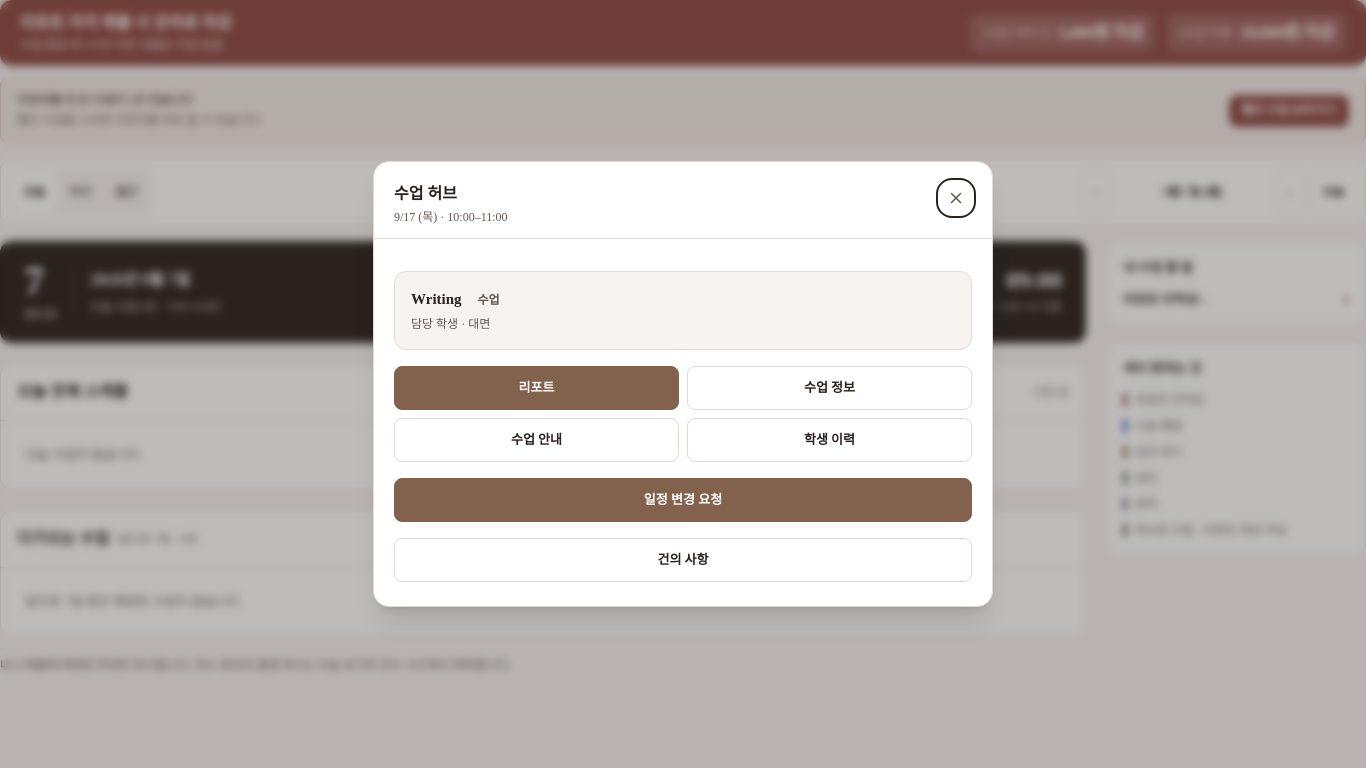
Test case: BOC-06D 강사 일정 변경·근접 건의 Front 계약 › 요청 초안은 허브로 돌아갔다가 다시 열어도 보존하고 source 회차의 날짜·시각은 바꾸지 않는다
Click the button with aria-label "일정 변경 요청 열기": (683, 500) [394,478,972,522]
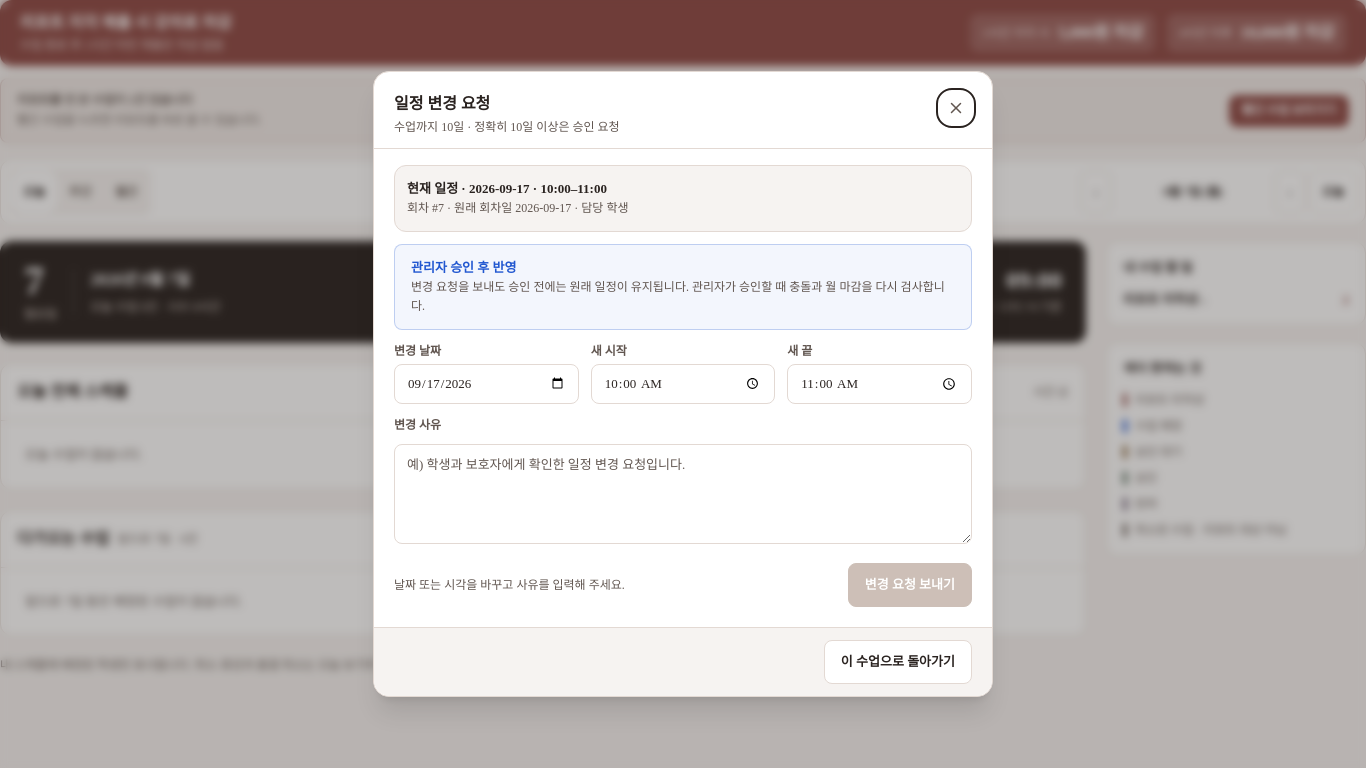
In the date field labelled "변경 날짜": (486, 384) [394,364,579,404], type "2026-09-19"
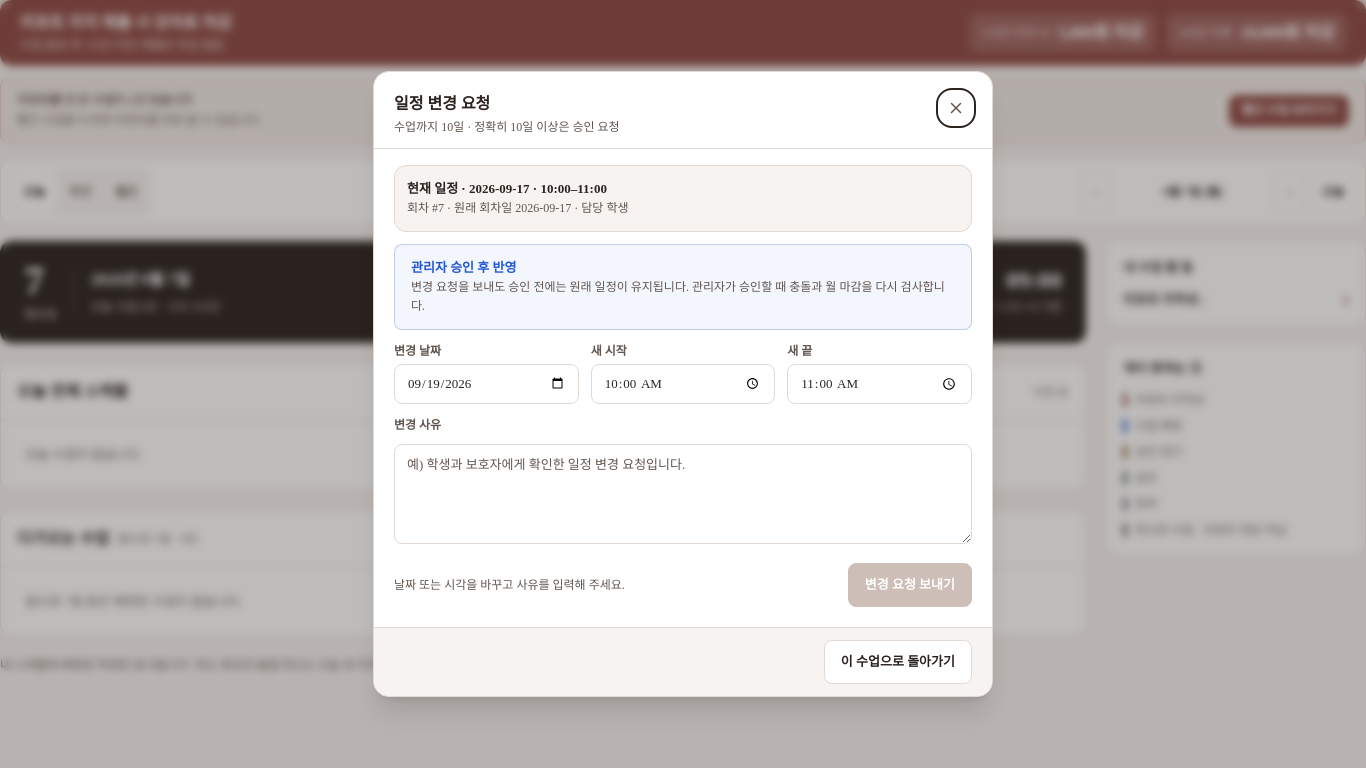
In the text box labelled "변경 사유": (683, 494) [394,444,972,544], type "학생 일정과 협의한 변경 요청입니다."
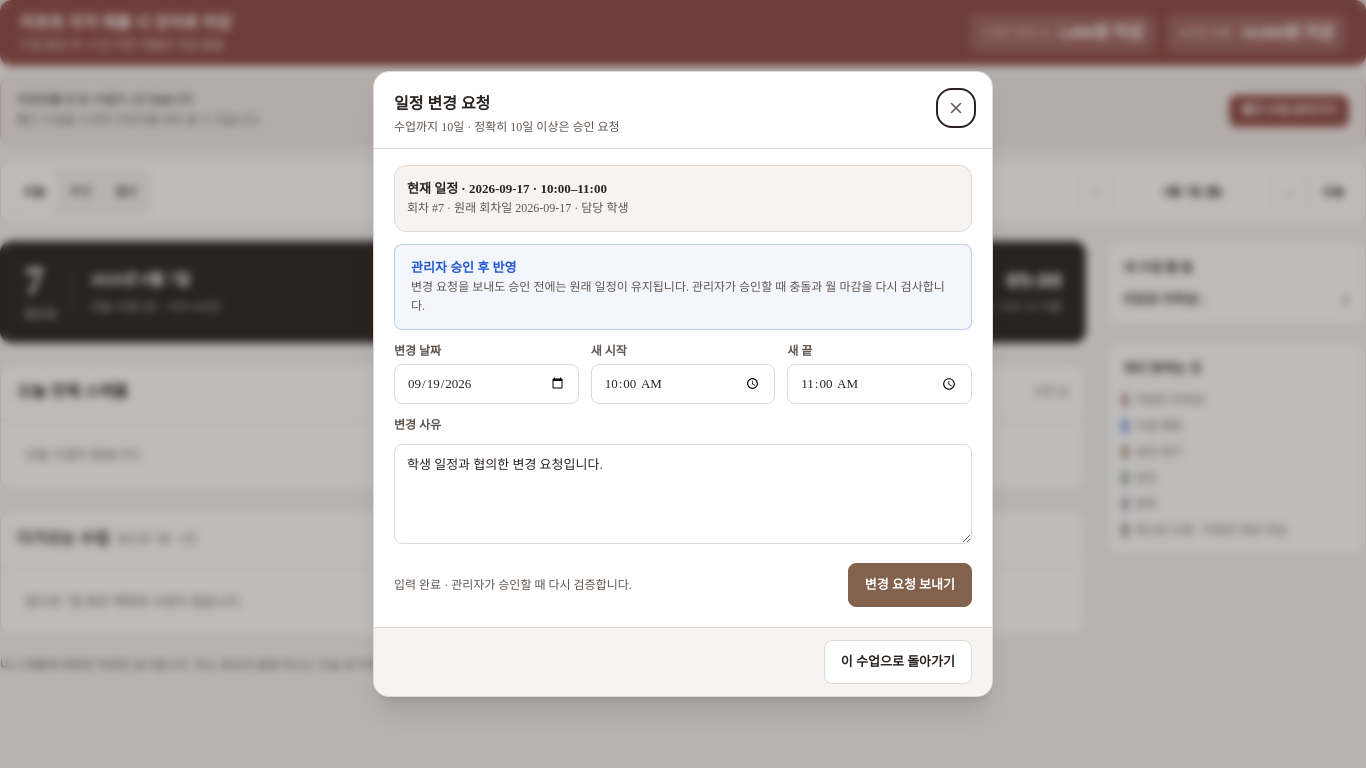
Click the button "이 수업으로 돌아가기": (898, 662) [824,640,972,684]
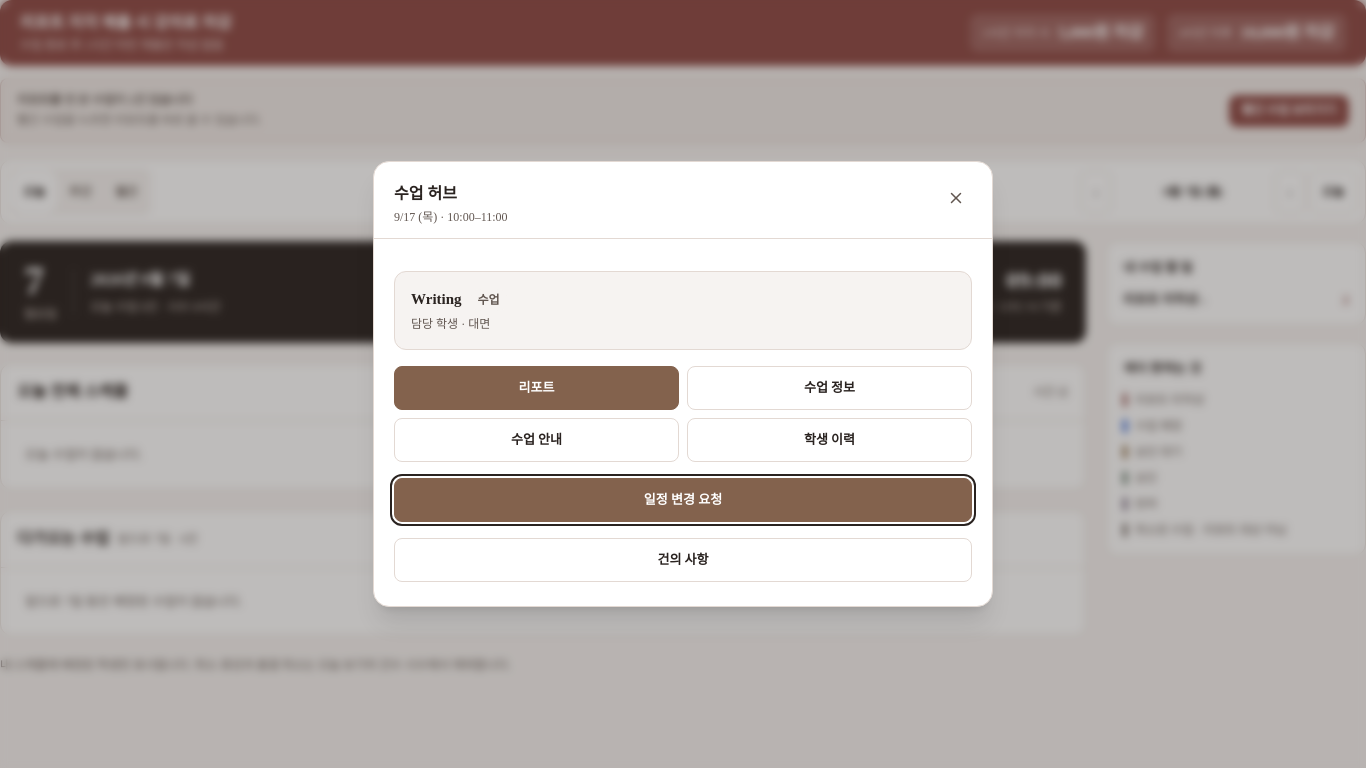
Check: the dialog "수업 허브" is shown, box [373,161,993,607]
Click the button with aria-label "일정 변경 요청 열기": (683, 500) [394,478,972,522]
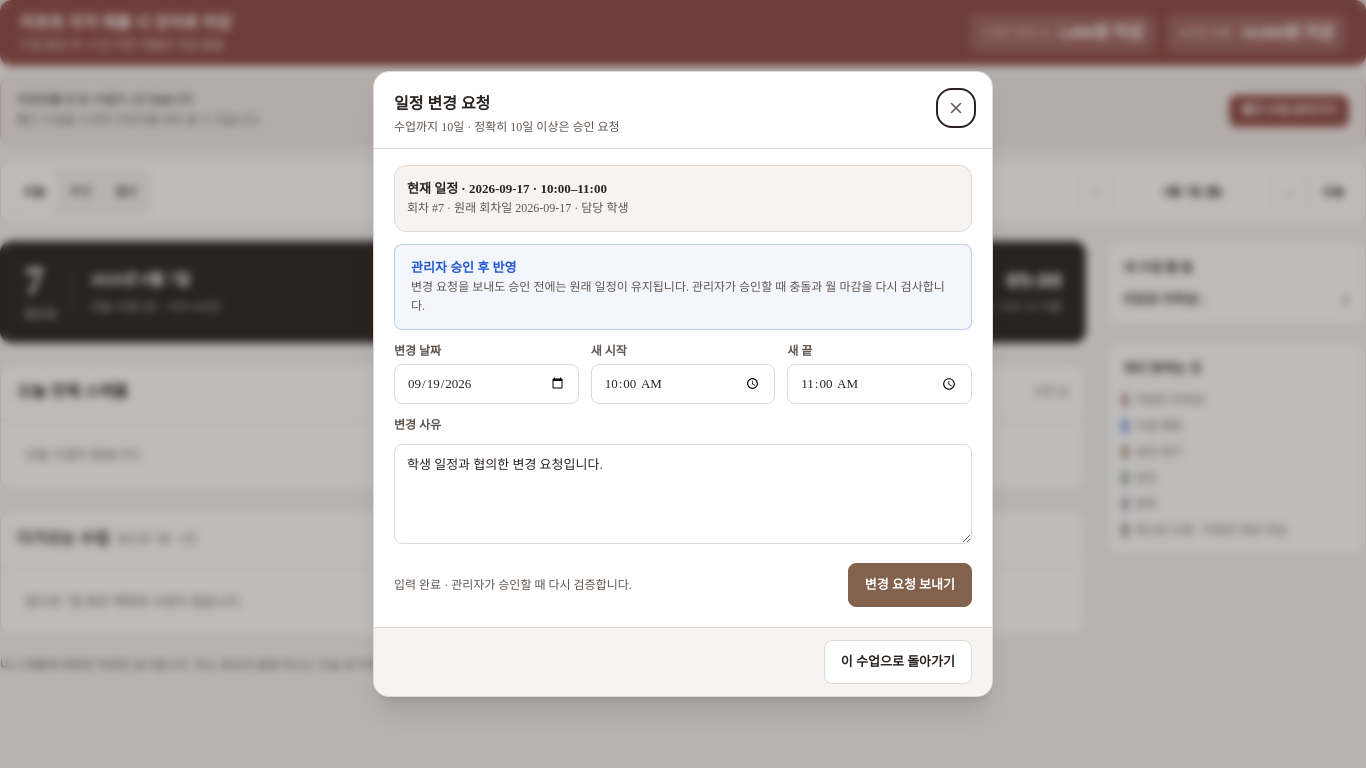
Check: the date field labelled "변경 날짜" holds "2026-09-19", box [394,364,579,404]
Check: the text box labelled "변경 사유" holds "학생 일정과 협의한 변경 요청입니다.", box [394,444,972,544]
Check: the text "현재 일정 · 2026-09-17 · 10:00–11:00" is shown, box [407,181,607,196]
